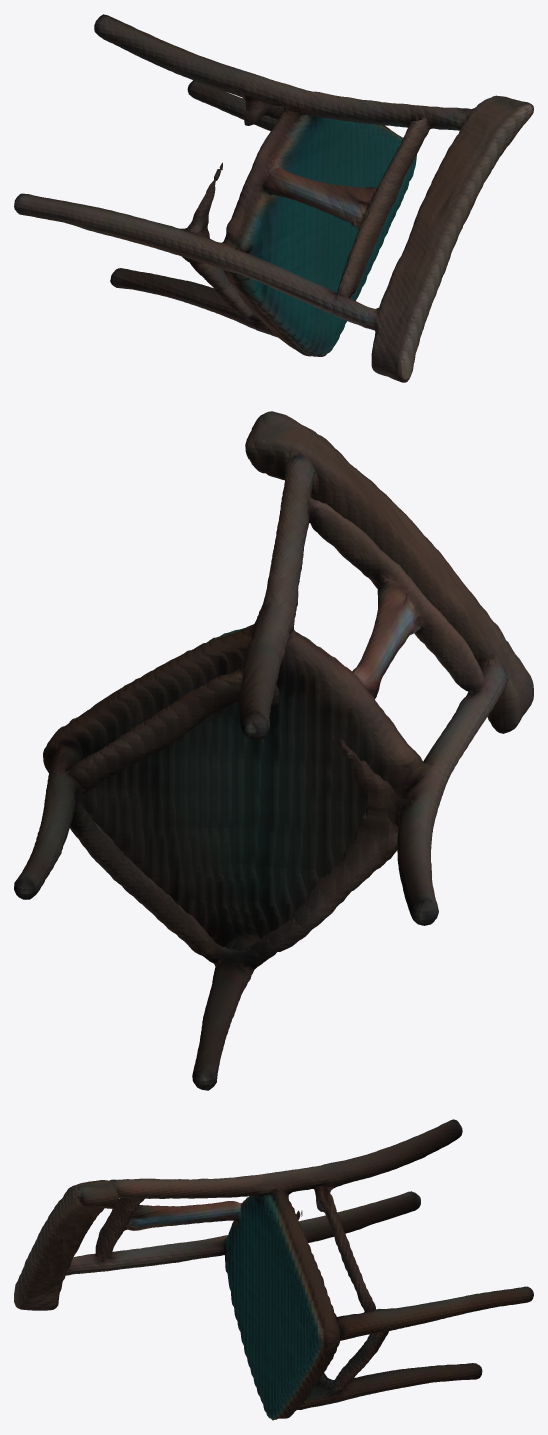
Rendered from chair1716875758.obj.
3 renders of one model, top to bottom at view 1: azimuth 30°, elevation 25°; view 2: azimuth 150°, elevation 25°; view 3: azimuth 270°, elevation 25°, orthographic. The views are drawn at different scales.
Bounding box in the file's own units: 0.7382 × 0.6261 × 1.1.
